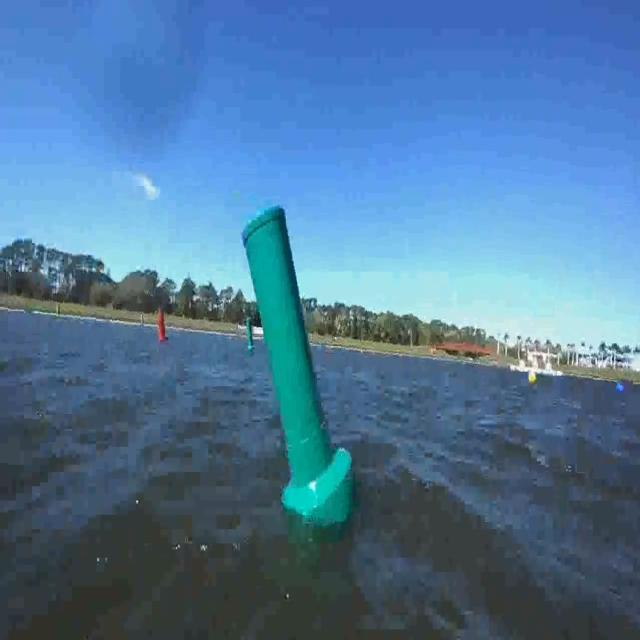blue-buoy: (616, 382, 627, 397)
green-column-buoy: (246, 202, 353, 522), (243, 319, 253, 353)
red-column-buoy: (158, 312, 169, 343)
yellow-buoy: (528, 371, 538, 386)
